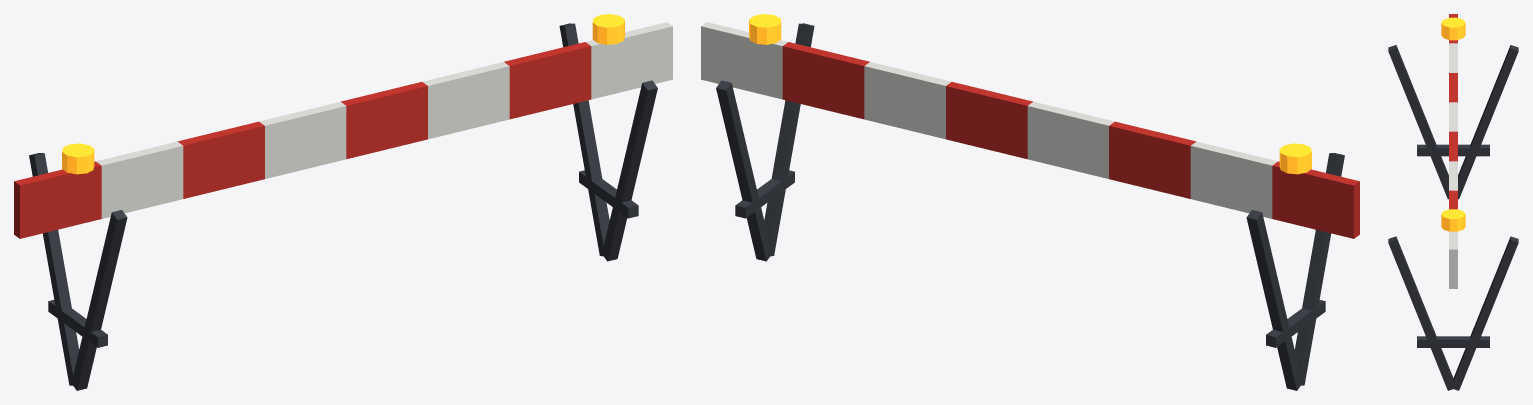
The model's file is road_barrier.glb.
The picture shows the model from 3 angles, left to right: view 1: azimuth 30°, elevation 25°; view 2: azimuth 150°, elevation 25°; view 3: azimuth 270°, elevation 25°; orthographic projection. The views are drawn at different scales.
Visible parts, largest first — view 1: board_barrier_red, board_barrier_white, legs_barrier_leg, lamp_barrier_lamp; view 2: board_barrier_red, board_barrier_white, legs_barrier_leg, lamp_barrier_lamp; view 3: legs_barrier_leg, board_barrier_white, lamp_barrier_lamp, board_barrier_red.
Part boxes in pixels (x1,y1,x2,y2): board_barrier_red: (14,42,591,238); board_barrier_white: (96,22,672,218); legs_barrier_leg: (29,23,657,390); lamp_barrier_lamp: (62,14,624,174); board_barrier_red: (782,42,1359,238); board_barrier_white: (701,22,1277,218); legs_barrier_leg: (716,23,1344,390); lamp_barrier_lamp: (749,14,1311,174); legs_barrier_leg: (1388,45,1518,390); board_barrier_white: (1449,43,1457,288); lamp_barrier_lamp: (1441,17,1465,231); board_barrier_red: (1449,14,1457,209).
Bounding box in the file's own units: 3.2 × 1.11 × 0.7499.
